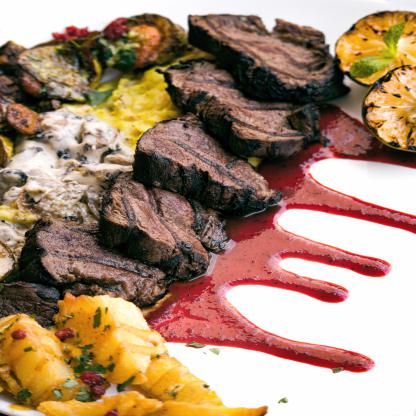Carne: (165, 52, 319, 170), (183, 11, 345, 113), (17, 215, 166, 311), (135, 118, 275, 218), (94, 173, 209, 276)
